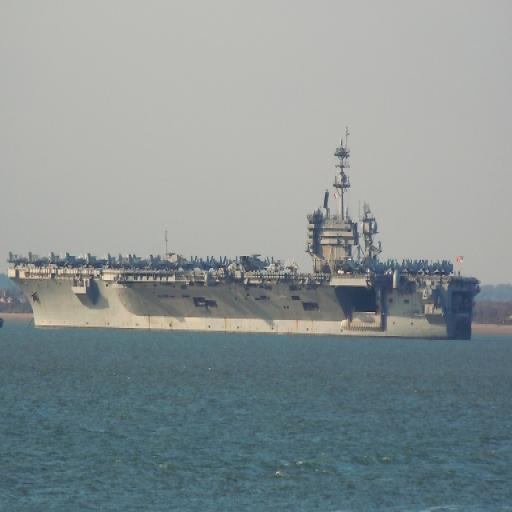Portanaves: (5, 129, 483, 342)
